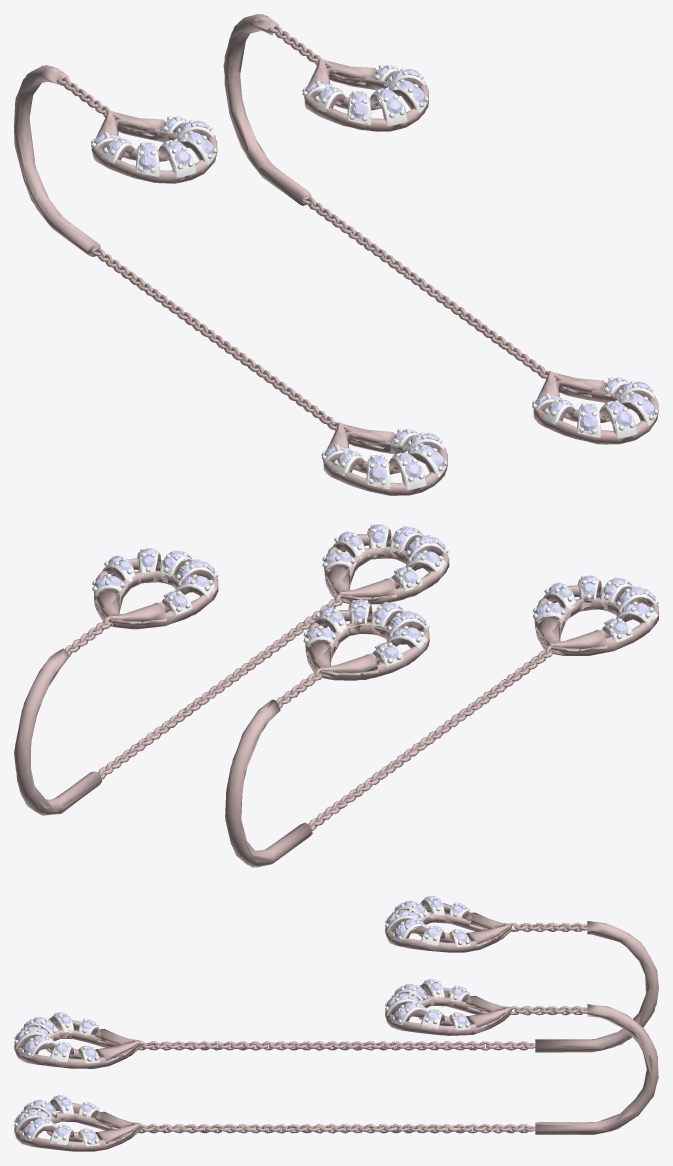
The picture shows the model from 3 angles, top to bottom: view 1: azimuth 30°, elevation 25°; view 2: azimuth 150°, elevation 25°; view 3: azimuth 270°, elevation 25°; orthographic projection. The views are drawn at different scales.
Parts seen in each view (by area): view 1: highPolyMesh, lowPolyMesh; view 2: highPolyMesh, lowPolyMesh; view 3: highPolyMesh, lowPolyMesh.
Boxes of the visible parts, x1=… form: highPolyMesh: x1=14, y1=14, x2=658, y2=495; lowPolyMesh: x1=14, y1=14, x2=658, y2=495; highPolyMesh: x1=15, y1=524, x2=658, y2=867; lowPolyMesh: x1=14, y1=524, x2=658, y2=867; highPolyMesh: x1=14, y1=896, x2=658, y2=1151; lowPolyMesh: x1=14, y1=896, x2=657, y2=1151.
Bounding box in the file's own units: 0.0257 × 0.0137 × 0.056.
